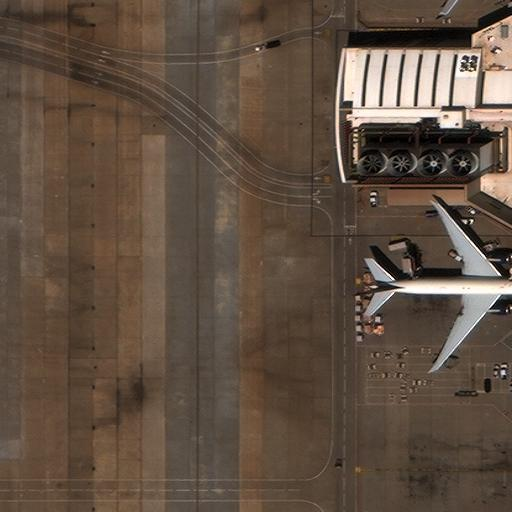Large Civil Transport: (357, 199, 511, 371)
